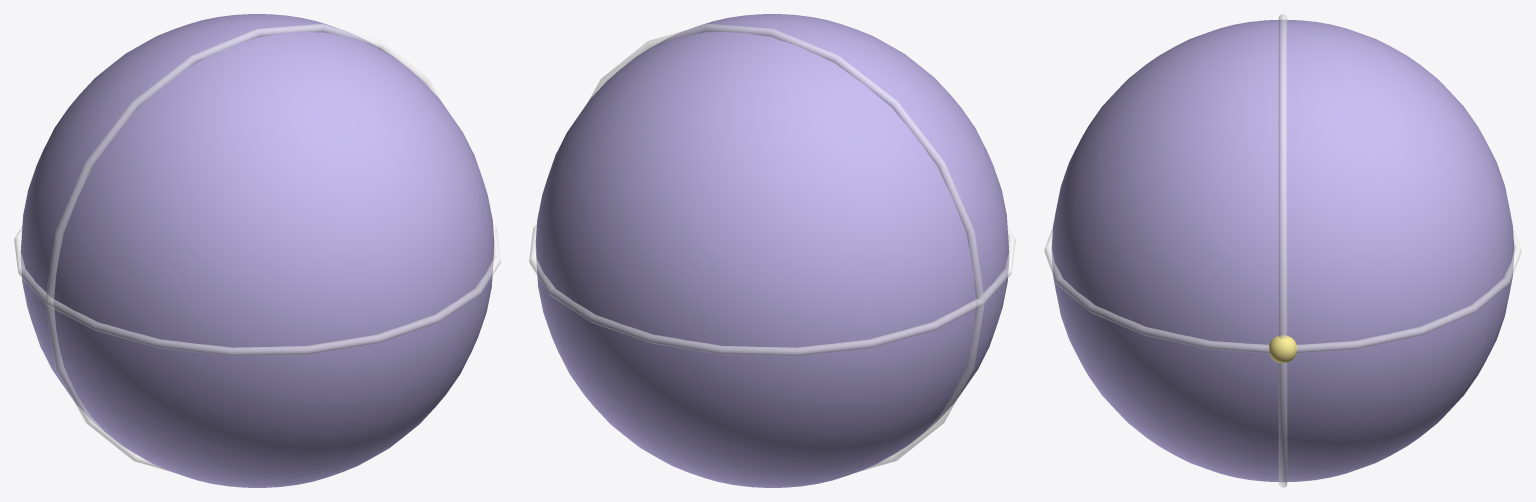
3 views of the same model, side by side, from view 1: azimuth 30°, elevation 25°; view 2: azimuth 150°, elevation 25°; view 3: azimuth 270°, elevation 25° (orthographic). The views are drawn at different scales.
Visible parts, largest first — view 1: sphere, sphere_equator, sphere_meridian; view 2: sphere, sphere_equator, sphere_meridian; view 3: sphere, sphere_meridian, sphere_equator, radius_end.
Boxes of the visible parts, x1=… form: sphere: x1=20, y1=14, x2=494, y2=487; sphere_equator: x1=45, y1=23, x2=441, y2=471; sphere_meridian: x1=14, y1=224, x2=500, y2=356; sphere: x1=535, y1=14, x2=1009, y2=487; sphere_equator: x1=588, y1=23, x2=984, y2=471; sphere_meridian: x1=529, y1=224, x2=1015, y2=356; sphere: x1=1051, y1=19, x2=1514, y2=482; sphere_meridian: x1=1044, y1=228, x2=1521, y2=353; sphere_equator: x1=1278, y1=14, x2=1287, y2=487; radius_end: x1=1268, y1=335, x2=1297, y2=363.
Bounding box in the file's own units: 1.17 × 1.15 × 1.15.
